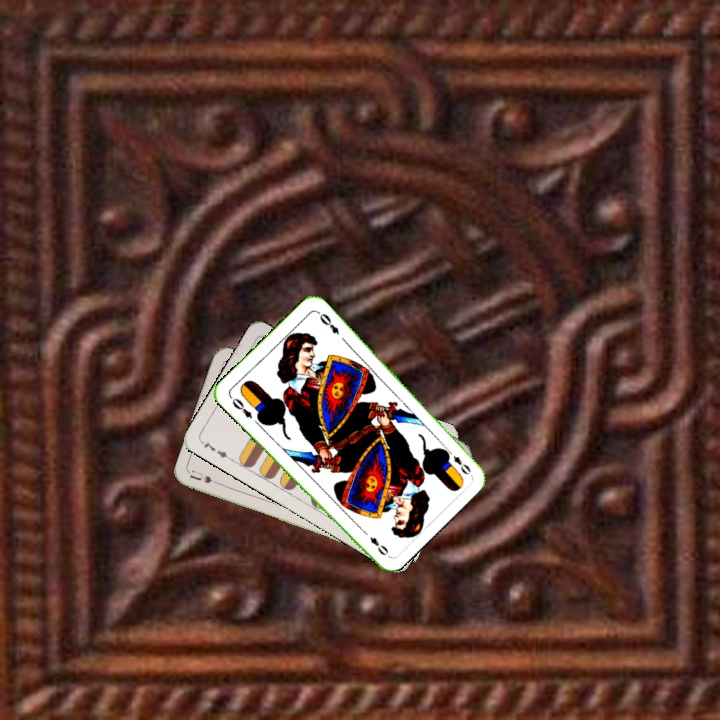E7: (197, 437, 234, 463)
EO: (226, 392, 255, 421), (449, 451, 473, 477)
SU: (186, 466, 227, 489)
